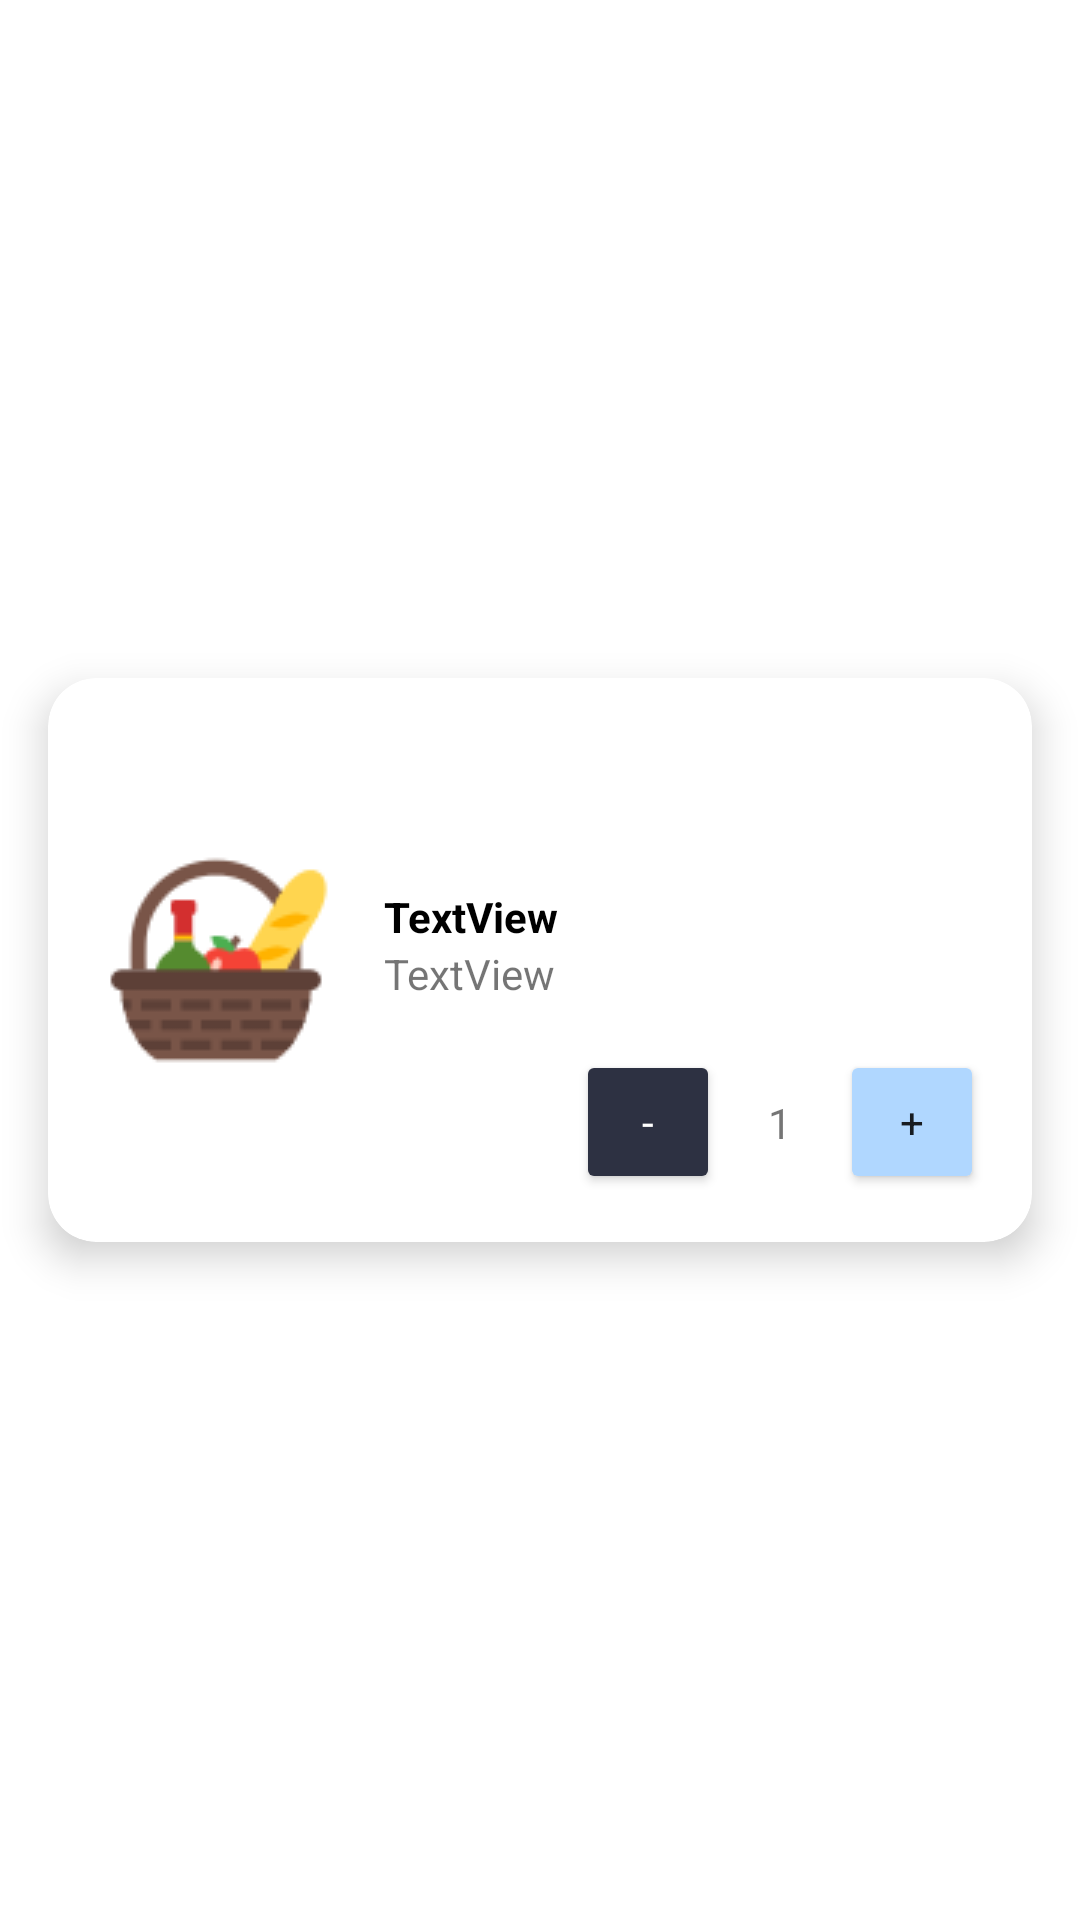

Where to tap for icons on this 1080x1920 app screen, as point (x, y):
hamper: point (219, 960)
